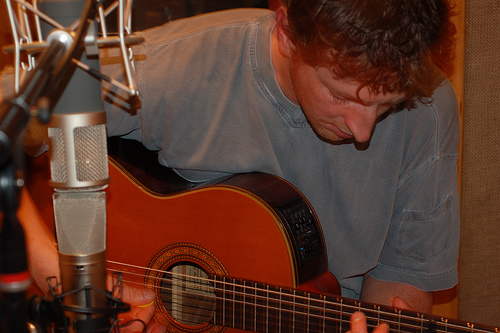guitar: (27, 140, 500, 333)
